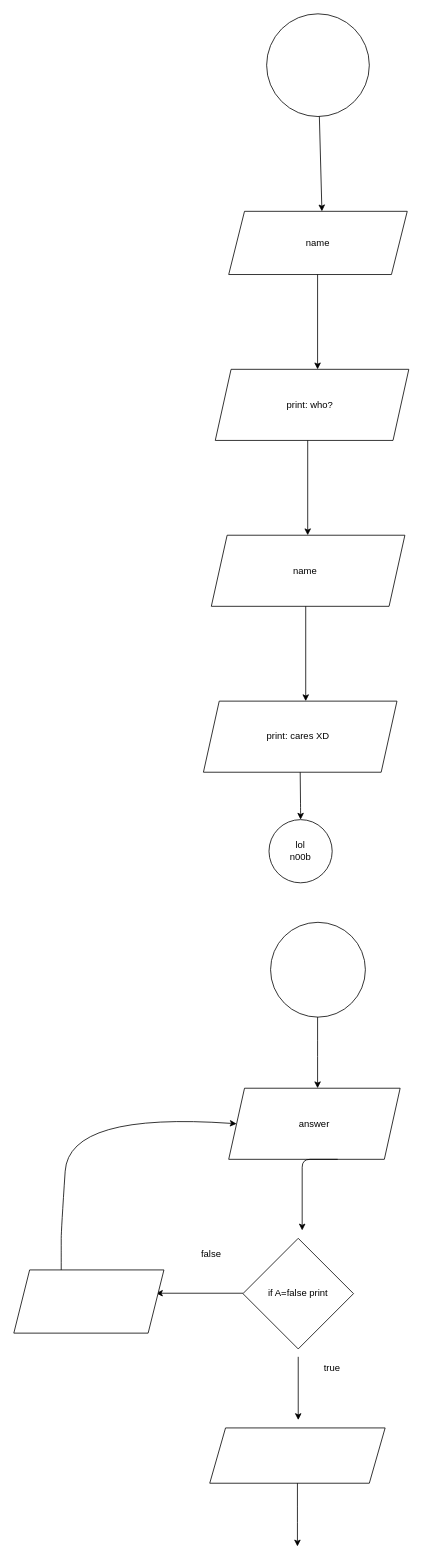
The diagram is 423 pixels wide and 1567 high, and some of its shapes have lost their labels. Here are the shapes that lost their labels. From the top down, the box of each, then its label:
(266, 13, 369, 117): Hello. What is thines nameth
(270, 922, 365, 1017): Who was the first king of Israel ?
(13, 1269, 164, 1333): Wrong. lol noobie try again
(209, 1427, 385, 1483): correct. you must like the bible huh
